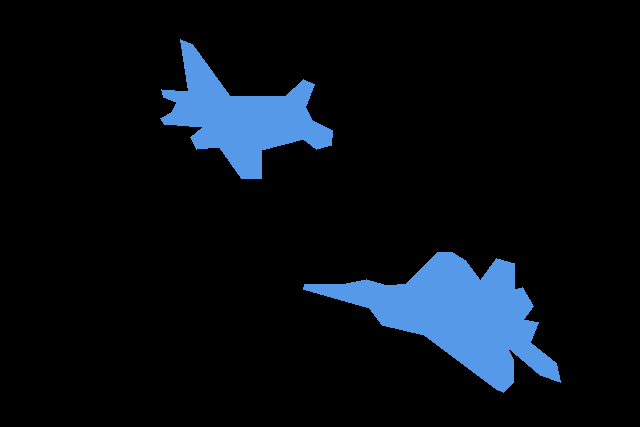Airplane: (303, 252, 560, 393), (160, 39, 332, 179)
